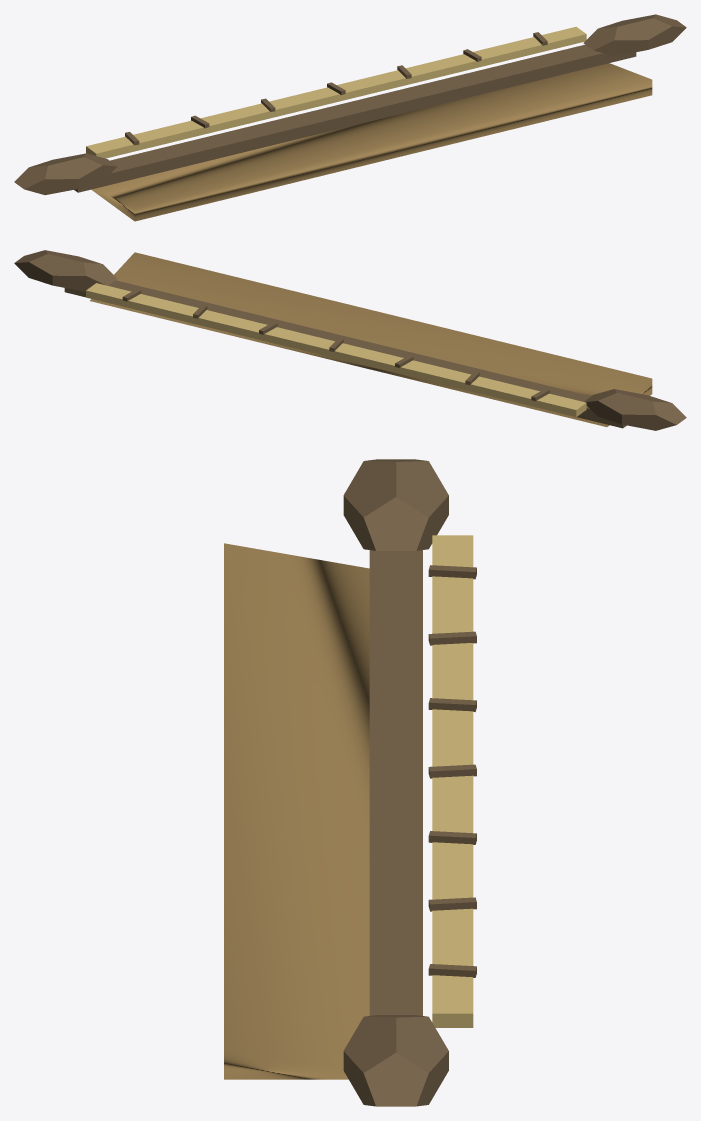
Rendered from forecourt-threshold.glb.
3 renders of one model, top to bottom at view 1: azimuth 30°, elevation 25°; view 2: azimuth 150°, elevation 25°; view 3: azimuth 270°, elevation 25°, orthographic. The views are drawn at different scales.
Visible parts, largest first — view 1: packed_ramp, gate_sill_back, carved_sill_front, left_anchor_block, right_anchor_block; view 2: packed_ramp, carved_sill_front, gate_sill_back, left_anchor_block, right_anchor_block; view 3: packed_ramp, gate_sill_back, carved_sill_front, right_anchor_block, left_anchor_block.
Boxes of the visible parts, box(x1,y1,x2,y2) form: packed_ramp: box(91, 63, 652, 221); gate_sill_back: box(74, 44, 636, 192); carved_sill_front: box(86, 26, 586, 158); left_anchor_block: box(14, 153, 117, 195); right_anchor_block: box(583, 14, 686, 56); packed_ramp: box(90, 252, 652, 426); carved_sill_front: box(86, 283, 586, 417); gate_sill_back: box(64, 280, 626, 428); left_anchor_block: box(584, 389, 686, 430); right_anchor_block: box(14, 250, 117, 291); packed_ramp: box(224, 543, 369, 1079); gate_sill_back: box(369, 549, 422, 1015); carved_sill_front: box(432, 535, 473, 1027); right_anchor_block: box(343, 1015, 448, 1106); left_anchor_block: box(343, 459, 448, 550).
Bounding box in the file's own units: 9.74 × 0.4905 × 1.61.
